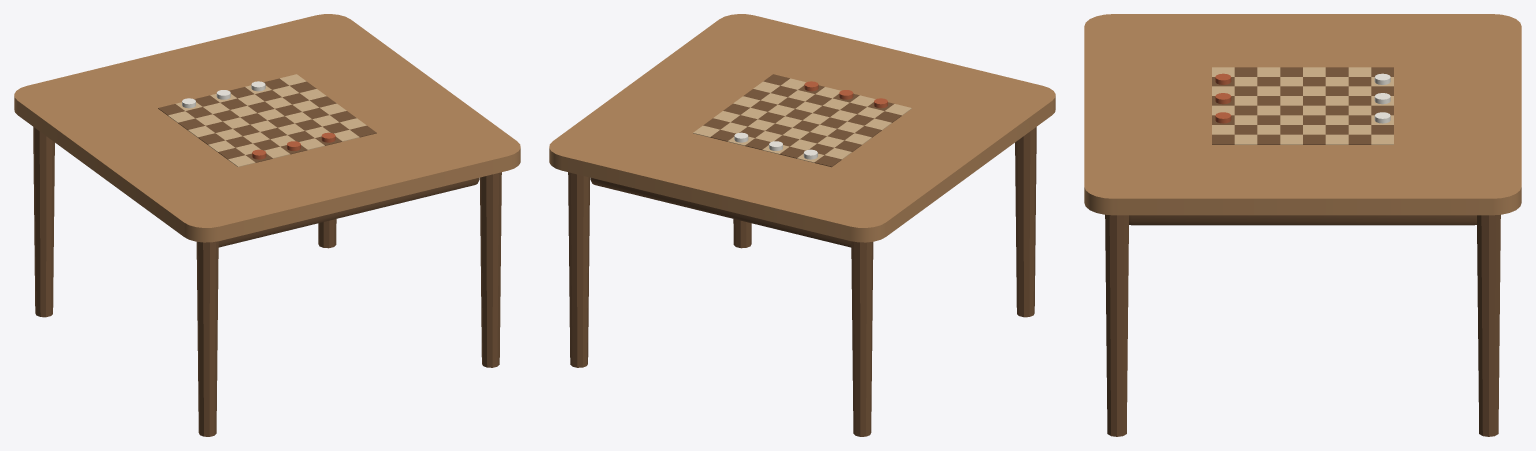
File: board_table.glb
3 views of the same model, side by side, from view 1: azimuth 30°, elevation 25°; view 2: azimuth 150°, elevation 25°; view 3: azimuth 270°, elevation 25° (orthographic). The views are drawn at different scales.
Visible parts, largest first — view 1: FURN-board_table; view 2: FURN-board_table; view 3: FURN-board_table.
Part boxes in pixels (<box>): FURN-board_table: <box>14,14,520,436</box>; FURN-board_table: <box>549,14,1055,436</box>; FURN-board_table: <box>1084,14,1521,436</box>.
Bounding box in the file's own units: 1.2 × 0.766 × 1.2.
